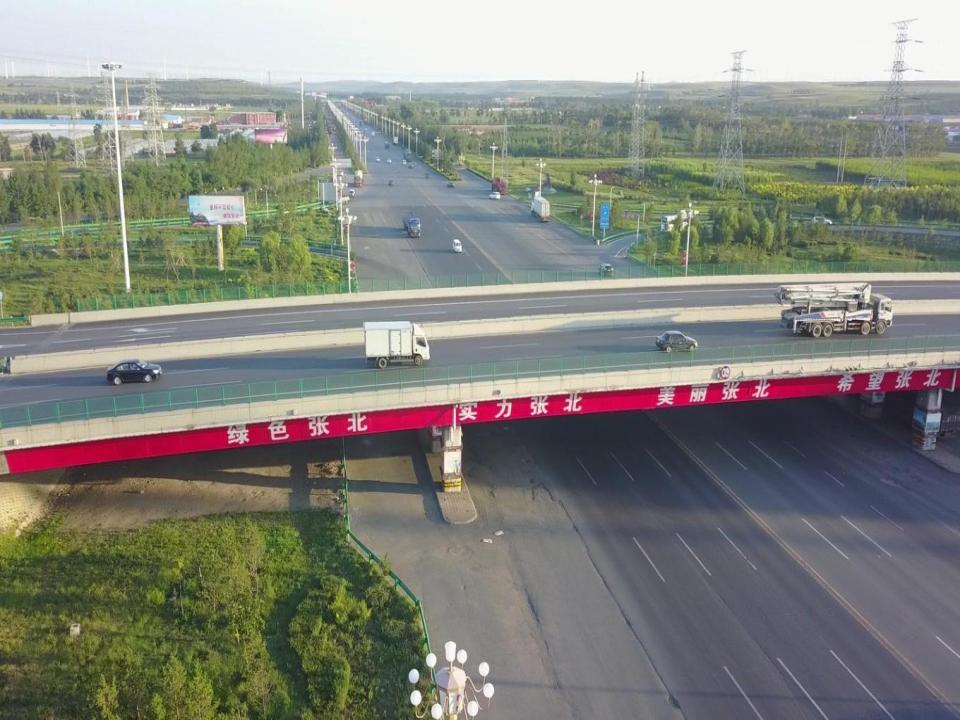car: (104, 359, 162, 384), (656, 330, 698, 356), (813, 216, 832, 228), (597, 262, 613, 276), (484, 191, 498, 200), (454, 240, 462, 254)
truck: (780, 283, 893, 337), (363, 324, 430, 368), (660, 214, 696, 232), (530, 196, 552, 224), (402, 213, 420, 237), (491, 173, 505, 191), (355, 173, 364, 187)
